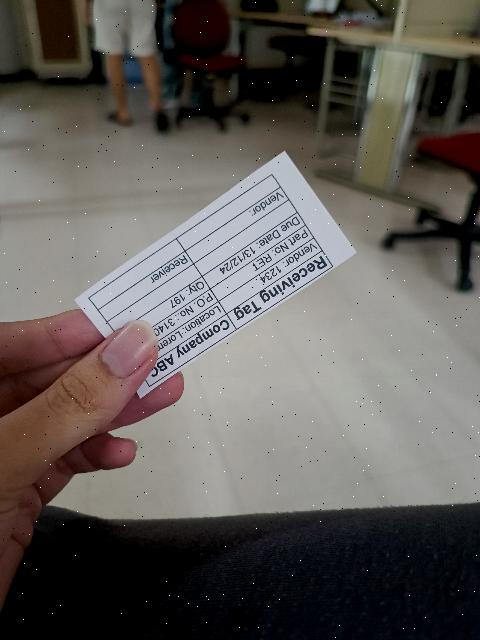PO no: (153, 288, 219, 341)
part no: (210, 225, 314, 302)
qty: (136, 276, 211, 327)
tags: (76, 152, 355, 398)
